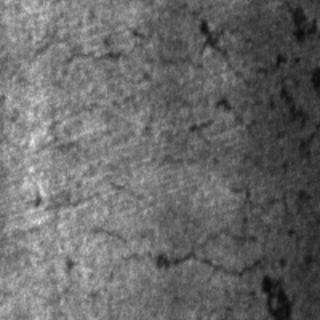crazing: (36, 32, 248, 114), (113, 180, 274, 272)
